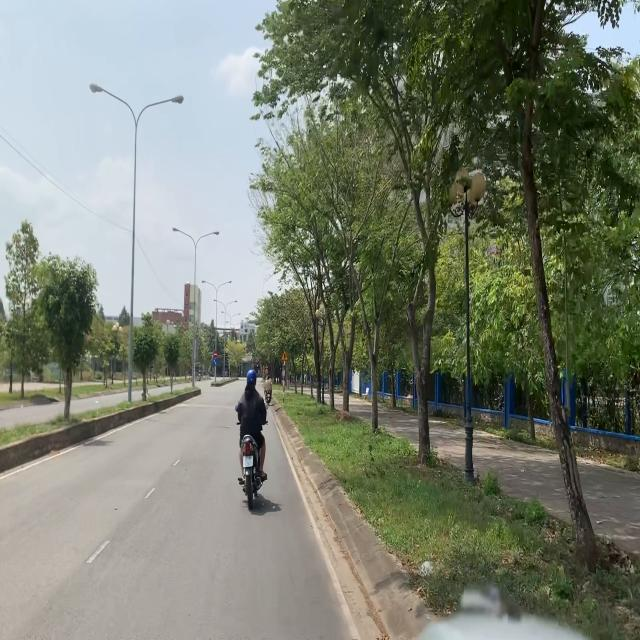Cam nguoc chieu: (213, 350, 218, 358)
Giao voi duong khong uu tien: (281, 350, 289, 362)
Hieu lenh: (213, 358, 217, 366)
